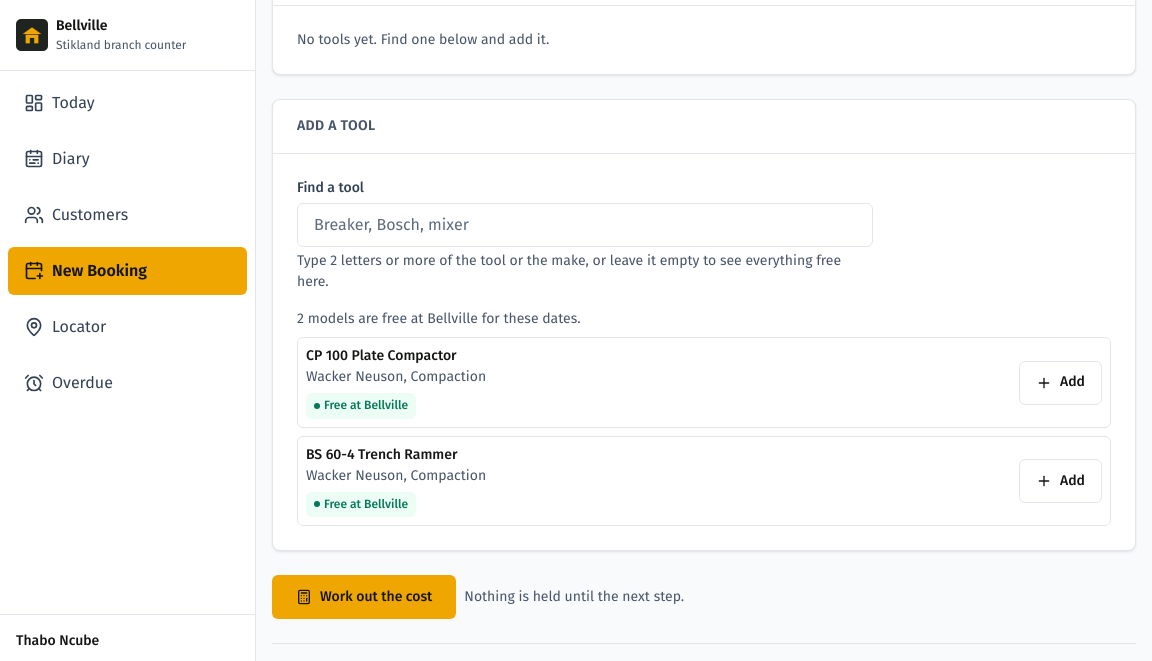
choosing the dates and the tools › lists what is free at the branch, and says whether each line is free for its quantity
The image size is (1152, 661).
(page scrolled)
Expected: the message reads "2 models are free at Bellville for these dates.", [297,310,581,326]
Expected: the text "Free at Bellville" is shown 2 times, [306,393,416,419]; [306,492,416,517]
Click the button "Add" in the row of "CP 100 Plate Compactor": (1061, 382) [1019,360,1102,404]
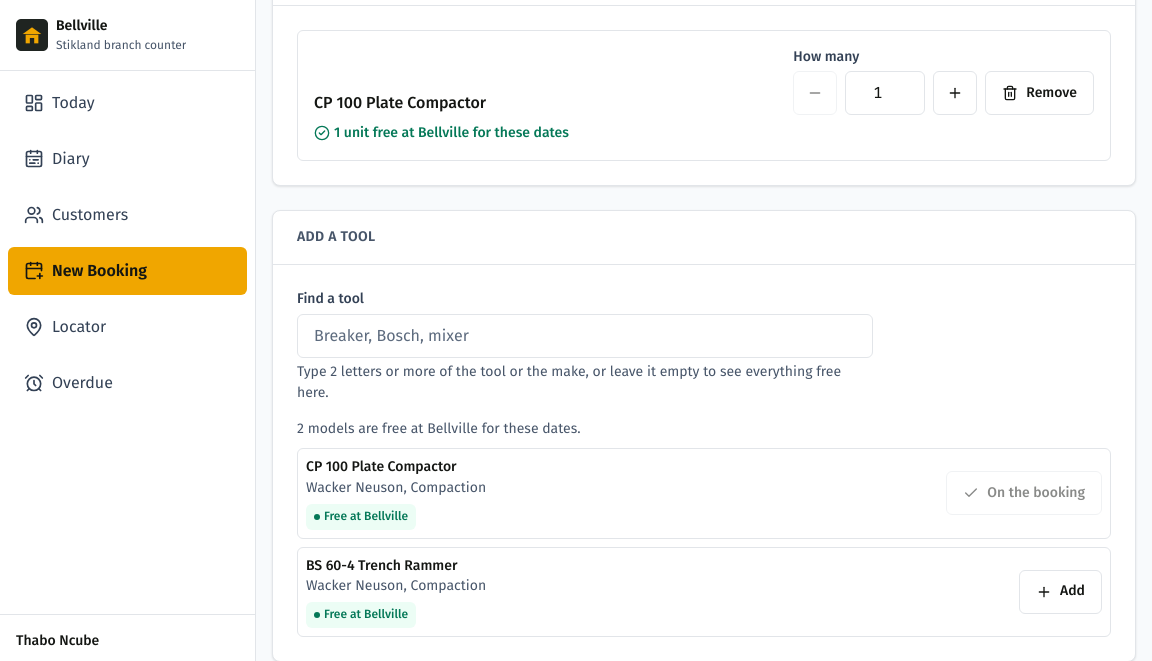
Click the 2nd button named "One more CP 100 Plate Compactor": (955, 93) [933,71,977,115]
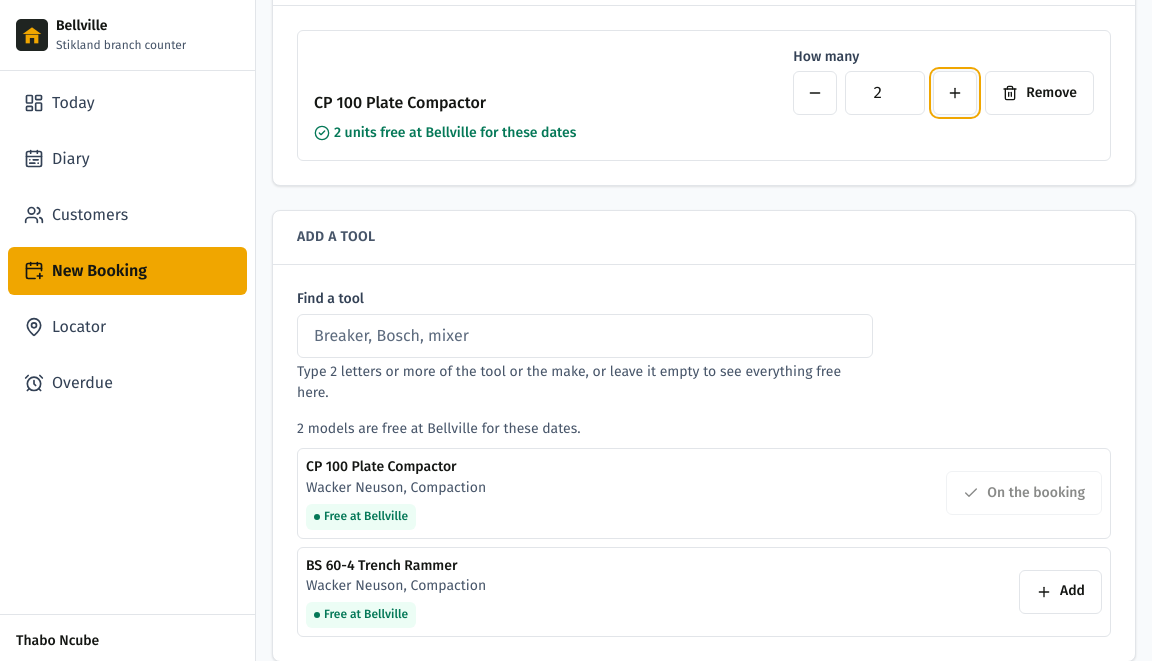
Result: the text "2 units free at Bellville for these dates" is shown at [314,124,576,141]
